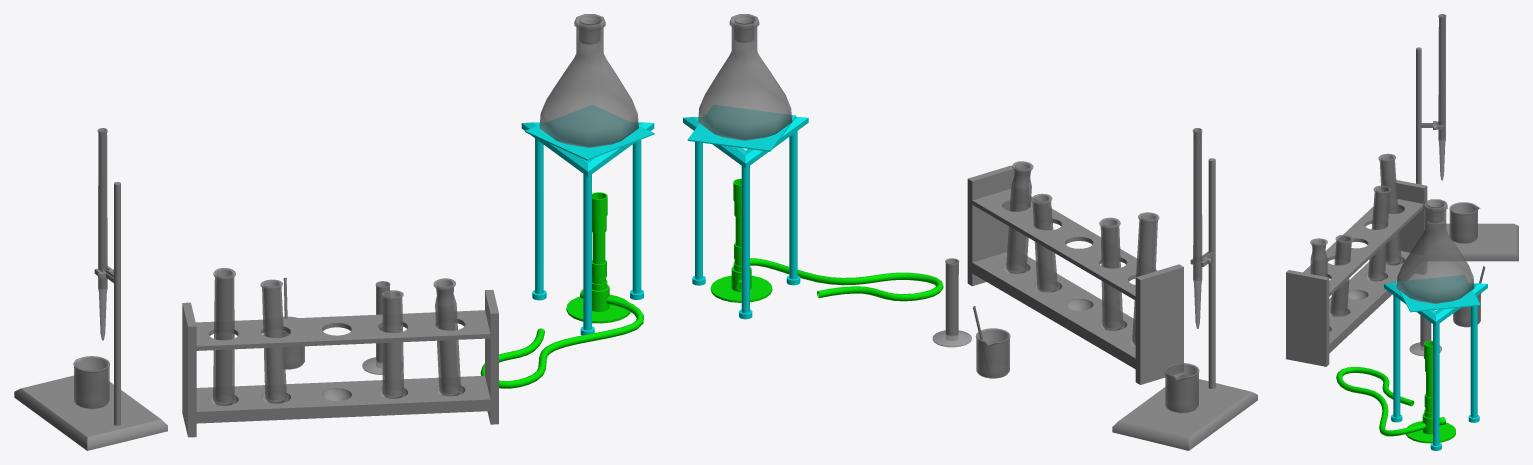
File: SmallScience_Equipment.fbx
3 views of the same model, side by side, from view 1: azimuth 30°, elevation 25°; view 2: azimuth 150°, elevation 25°; view 3: azimuth 270°, elevation 25° (orthographic). The views are drawn at different scales.
Parts seen in each view (by area): view 1: testtube_rack, Stand, Flask, tripod, Bunsen_burner, gauze_mat, testtube_tall, testtube_med, testtube, testtube_short, Beaker, Graduated_Cylinder; view 2: testtube_rack, Stand, Flask, tripod, Bunsen_burner, gauze_mat, testtube_med, testtube, testtube_short, Beaker, Beaker1, Graduated_Cylinder (+1 smaller); view 3: testtube_rack, Stand, Flask, tripod, Bunsen_burner, gauze_mat, testtube_med, testtube_tall, Beaker, testtube_short, testtube, Graduated_Cylinder (+1 smaller).
Boxes of the visible parts, box(x1,y1,x2,y2) form: testtube_rack: box(182, 289, 498, 437); Stand: box(14, 128, 167, 450); Flask: box(539, 14, 638, 147); tripod: box(521, 122, 654, 335); Bunsen_burner: box(480, 192, 643, 388); gauze_mat: box(525, 105, 654, 160); testtube_tall: box(213, 268, 235, 405); testtube_med: box(260, 279, 286, 403); testtube: box(433, 278, 460, 396); testtube_short: box(381, 290, 404, 398); Beaker: box(73, 356, 109, 409); Graduated_Cylinder: box(362, 281, 390, 374); testtube_rack: box(967, 165, 1183, 384); Stand: box(1112, 128, 1257, 450); Flask: box(698, 14, 792, 140); tripod: box(683, 117, 808, 319); Bunsen_burner: box(710, 178, 943, 302); gauze_mat: box(687, 105, 796, 151); testtube_med: box(1099, 217, 1122, 330); testtube: box(1006, 161, 1033, 273); testtube_short: box(1031, 193, 1057, 292); Beaker: box(1164, 363, 1199, 413); Beaker1: box(975, 328, 1010, 378); Graduated_Cylinder: box(932, 258, 971, 347); testtube_rack: box(1286, 180, 1427, 366); Stand: box(1416, 14, 1518, 261); Flask: box(1396, 199, 1474, 303); tripod: box(1384, 283, 1487, 450); Bunsen_burner: box(1336, 340, 1455, 443); gauze_mat: box(1394, 275, 1480, 312); testtube_med: box(1368, 185, 1391, 281); testtube_tall: box(1378, 153, 1401, 265); Beaker: box(1449, 202, 1480, 243); testtube_short: box(1330, 235, 1352, 316); testtube: box(1310, 238, 1327, 277); Graduated_Cylinder: box(1409, 315, 1441, 356).
Bounding box in the file's own units: 138 × 66.54 × 60.44.
